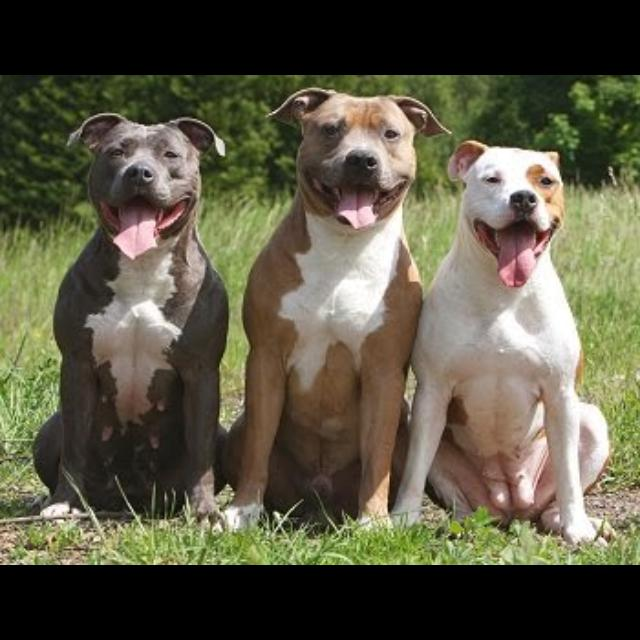am_pit_bull_terrier: (217, 87, 451, 535), (389, 139, 615, 550), (31, 111, 230, 527)
